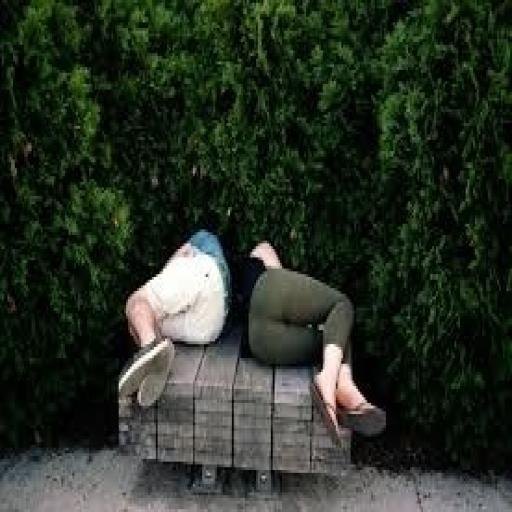sleeping: (117, 224, 389, 448)
